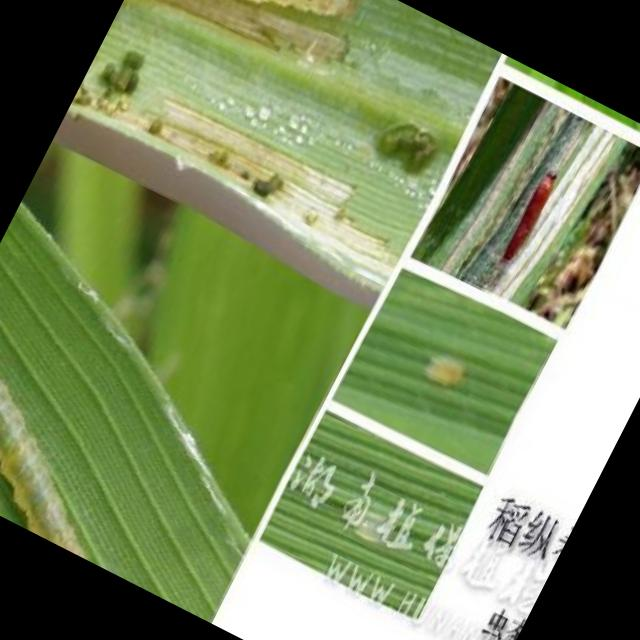leaf-folder: (0, 300, 154, 553), (119, 0, 386, 113), (484, 156, 572, 282), (408, 330, 489, 410)
